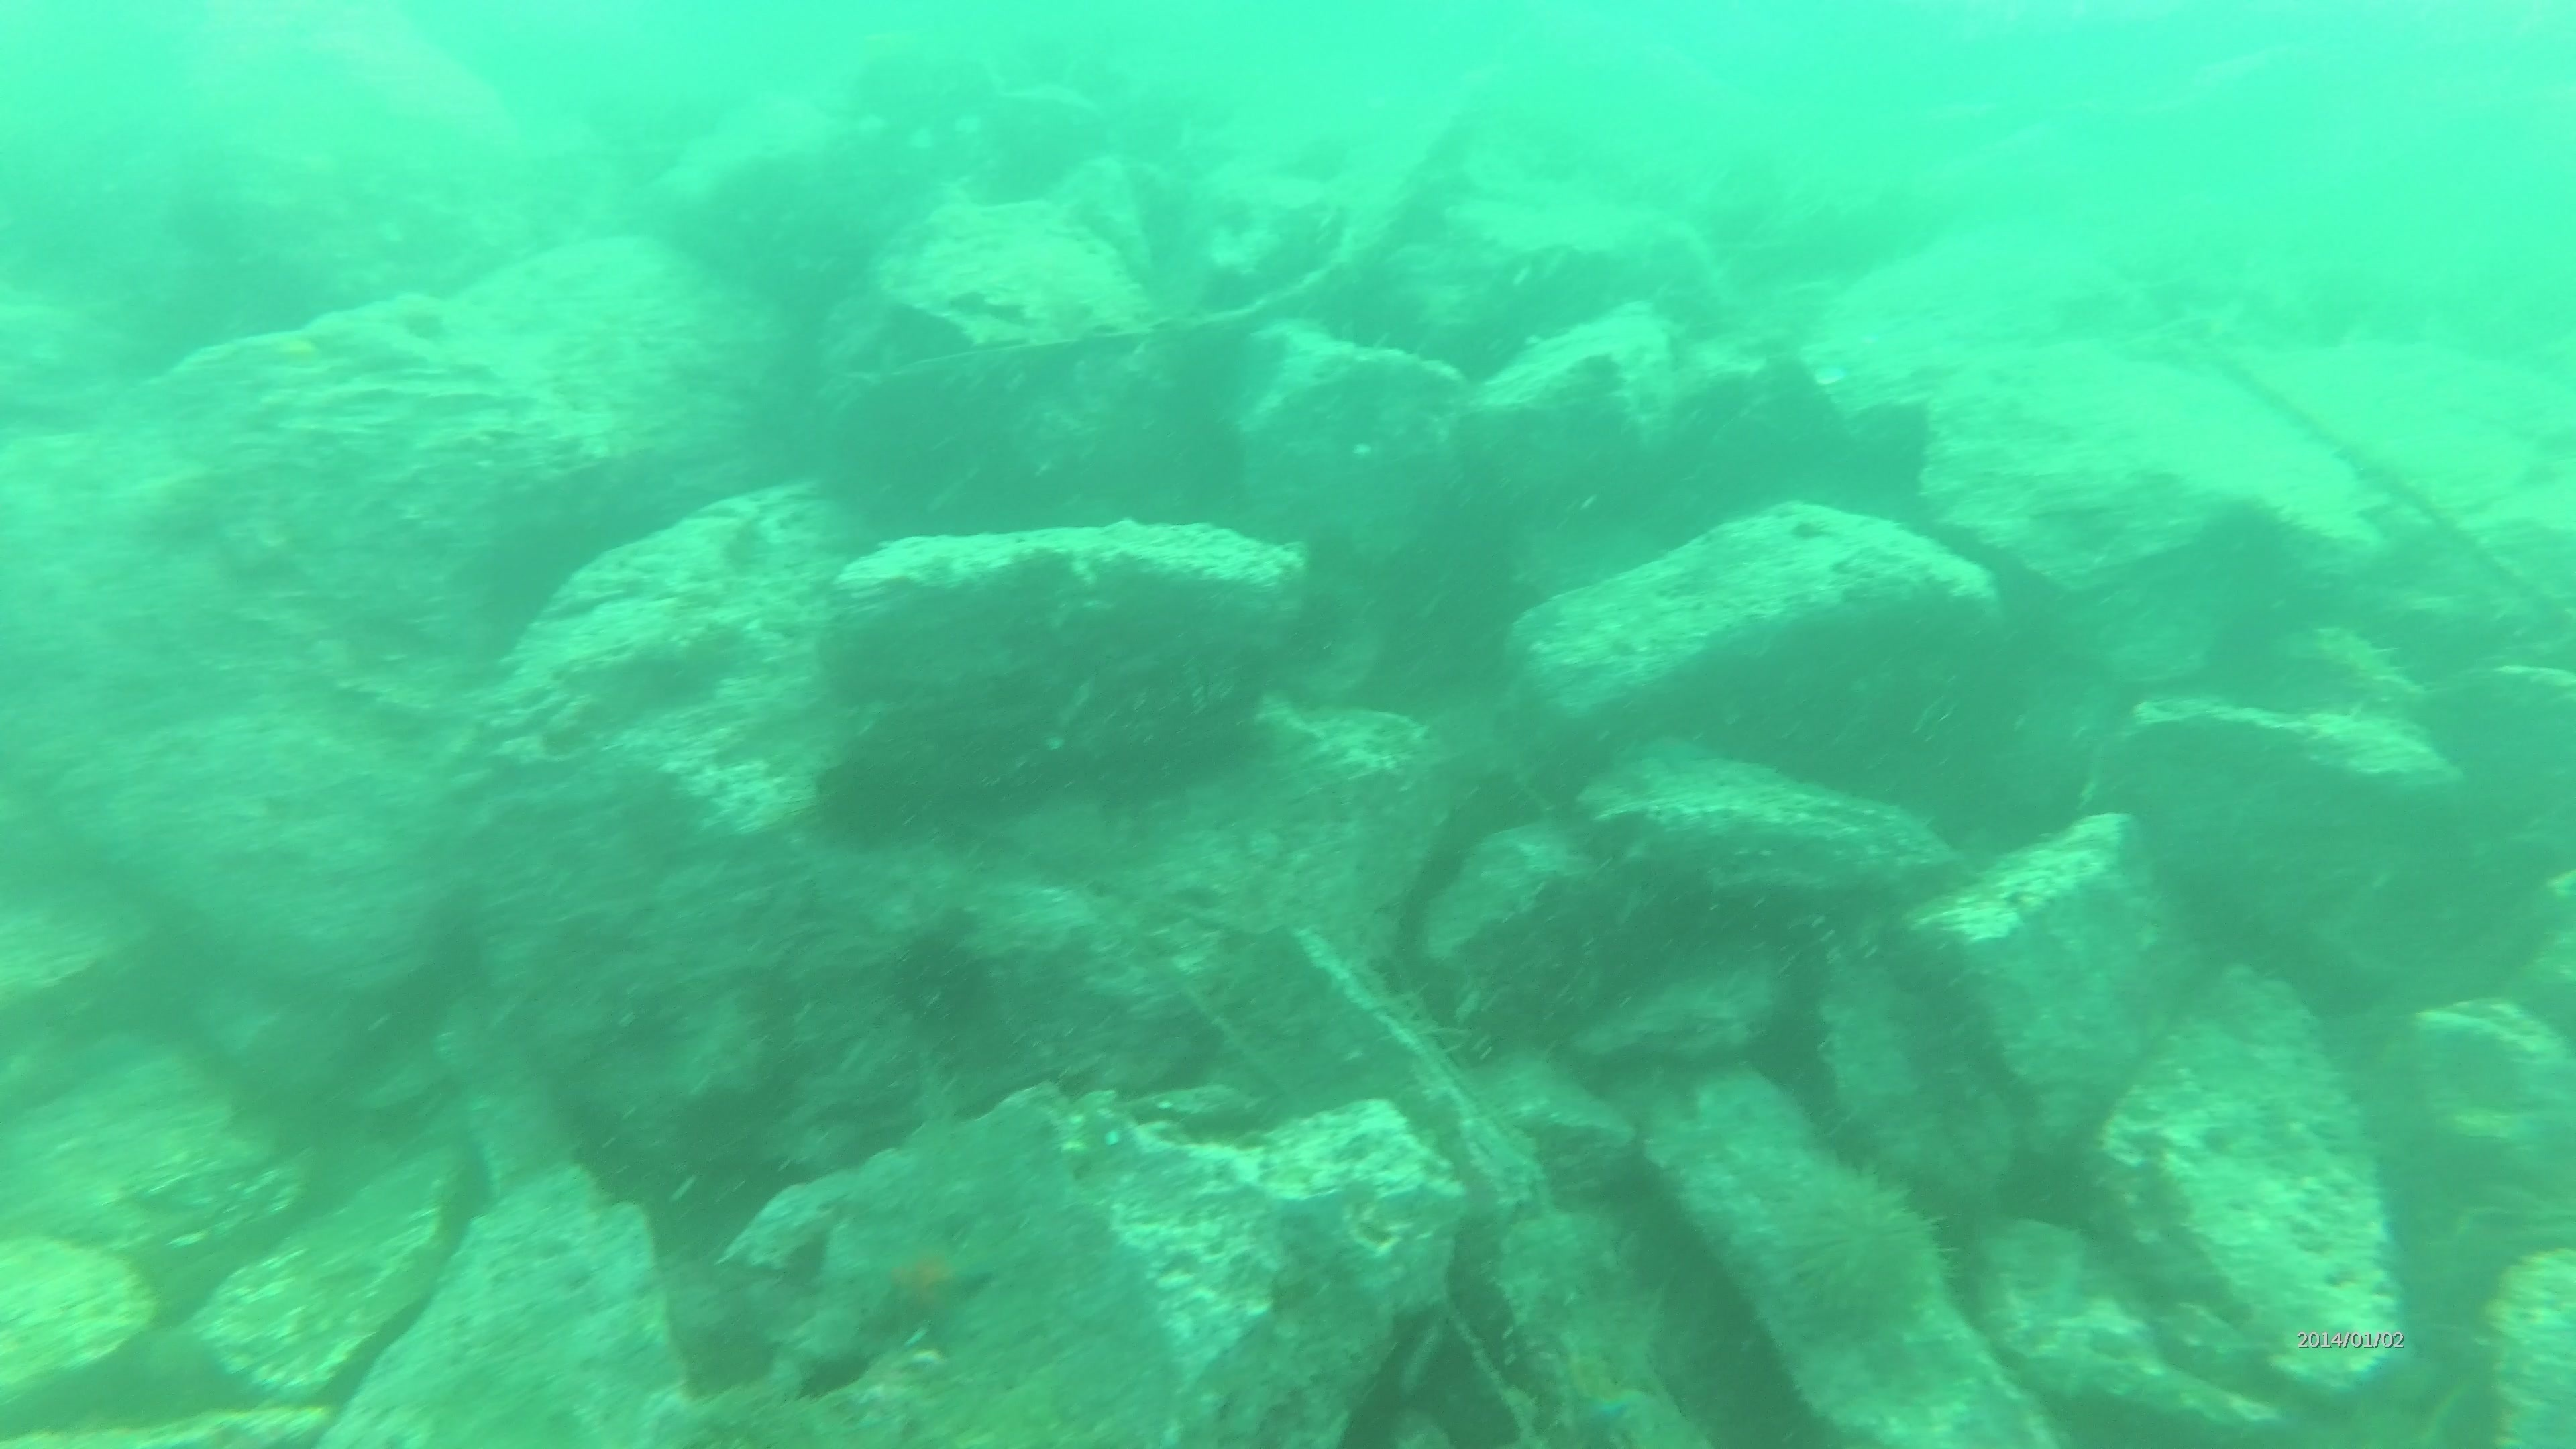echinus: (1767, 1157, 1950, 1346), (878, 918, 1001, 1044), (803, 738, 932, 856)
holothurian: (2284, 616, 2431, 731)
starfish: (851, 1212, 998, 1350)
